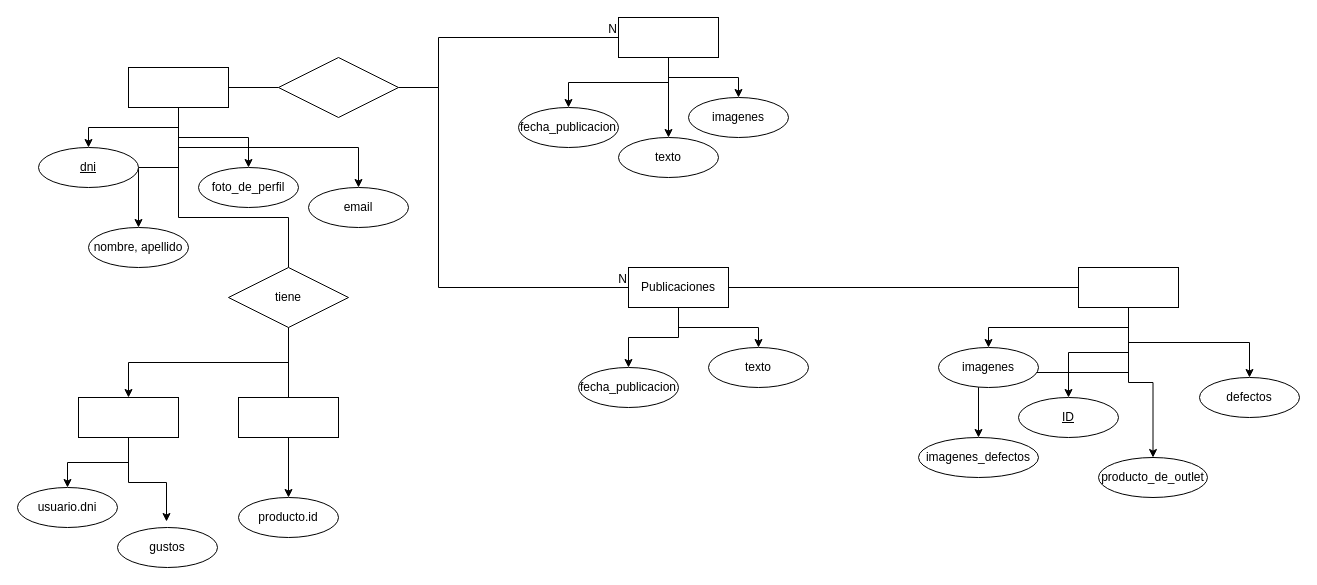
This 1317x585 diagram has some shape labels left out. The box of each missing label's shape, as (x1, y1, x2, y2) in pixels:
Carrito: (238, 396, 338, 438)
Perfilado de Usuario: (78, 396, 178, 438)
Producto: (1078, 266, 1178, 308)
publico: (278, 56, 398, 118)
Reseñas: (618, 16, 718, 58)
Usuario: (128, 66, 228, 108)
